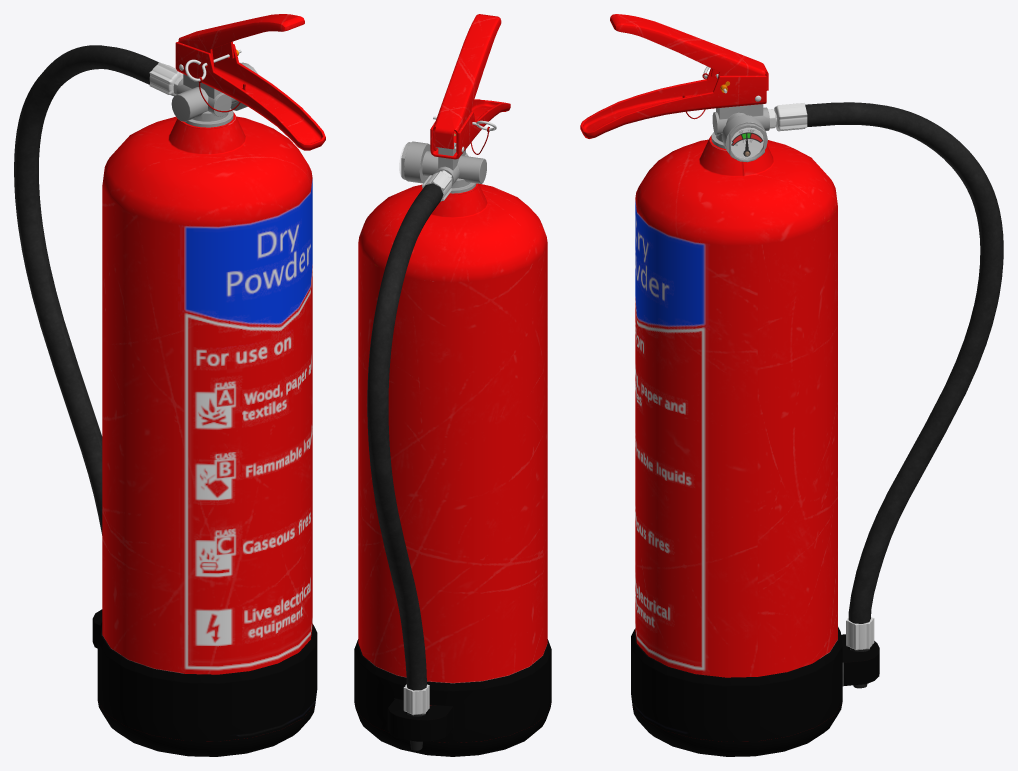
The model's file is powder_silinder.glb.
3 views of the same model, side by side, from view 1: azimuth 30°, elevation 25°; view 2: azimuth 150°, elevation 25°; view 3: azimuth 270°, elevation 25° (orthographic). The views are drawn at different scales.
Parts seen in each view (by area): view 1: Powder_Fire_Extinguisher1:Powder_Fire_Extinguisher:pCylinder (×2), Powder_Fire_Extinguisher1:Powder_Fire_Extinguisher:sweep1_Po, Powder_Fire_Extinguisher1:Powder_Fire_Extinguisher:pCube2_Po, Powder_Fire_Extinguisher1:polySurface2_Powder_Fire_Extinguis; view 2: Powder_Fire_Extinguisher1:Powder_Fire_Extinguisher:pCylinder (×2), Powder_Fire_Extinguisher1:Powder_Fire_Extinguisher:sweep1_Po, Powder_Fire_Extinguisher1:polySurface2_Powder_Fire_Extinguis, Powder_Fire_Extinguisher1:Powder_Fire_Extinguisher:pCube2_Po, Powder_Fire_Extinguisher1:Powder_Fire_Extinguisher:polySurfa; view 3: Powder_Fire_Extinguisher1:Powder_Fire_Extinguisher:pCylinder (×2), Powder_Fire_Extinguisher1:Powder_Fire_Extinguisher:sweep1_Po, Powder_Fire_Extinguisher1:Powder_Fire_Extinguisher:pCube2_Po, Powder_Fire_Extinguisher1:polySurface2_Powder_Fire_Extinguis, Powder_Fire_Extinguisher1:Powder_Fire_Extinguisher:polySurfa (×2), Powder_Fire_Extinguisher1:Powder_Fire_Extinguisher:glass_Pow.
Part boxes in pixels (<box>): Powder_Fire_Extinguisher1:Powder_Fire_Extinguisher:pCylinder (×2): <box>92,62,317,756</box>; Powder_Fire_Extinguisher1:Powder_Fire_Extinguisher:sweep1_Po: <box>14,45,158,535</box>; Powder_Fire_Extinguisher1:Powder_Fire_Extinguisher:pCube2_Po: <box>175,42,325,150</box>; Powder_Fire_Extinguisher1:polySurface2_Powder_Fire_Extinguis: <box>178,14,304,64</box>; Powder_Fire_Extinguisher1:Powder_Fire_Extinguisher:pCylinder (×2): <box>354,133,551,756</box>; Powder_Fire_Extinguisher1:Powder_Fire_Extinguisher:sweep1_Po: <box>367,183,443,690</box>; Powder_Fire_Extinguisher1:polySurface2_Powder_Fire_Extinguis: <box>433,14,501,153</box>; Powder_Fire_Extinguisher1:Powder_Fire_Extinguisher:pCube2_Po: <box>430,99,510,159</box>; Powder_Fire_Extinguisher1:Powder_Fire_Extinguisher:polySurfa: <box>403,684,429,750</box>; Powder_Fire_Extinguisher1:Powder_Fire_Extinguisher:pCylinder (×2): <box>631,103,879,756</box>; Powder_Fire_Extinguisher1:Powder_Fire_Extinguisher:sweep1_Po: <box>805,102,1003,623</box>; Powder_Fire_Extinguisher1:Powder_Fire_Extinguisher:pCube2_Po: <box>580,68,766,138</box>; Powder_Fire_Extinguisher1:polySurface2_Powder_Fire_Extinguis: <box>610,14,768,90</box>; Powder_Fire_Extinguisher1:Powder_Fire_Extinguisher:polySurfa (×2): <box>729,123,874,688</box>; Powder_Fire_Extinguisher1:Powder_Fire_Extinguisher:glass_Pow: <box>731,128,764,160</box>.
Size of the model in its own units: 0.1765 by 0.6563 by 0.3531.
2 materials, 1 textured.
